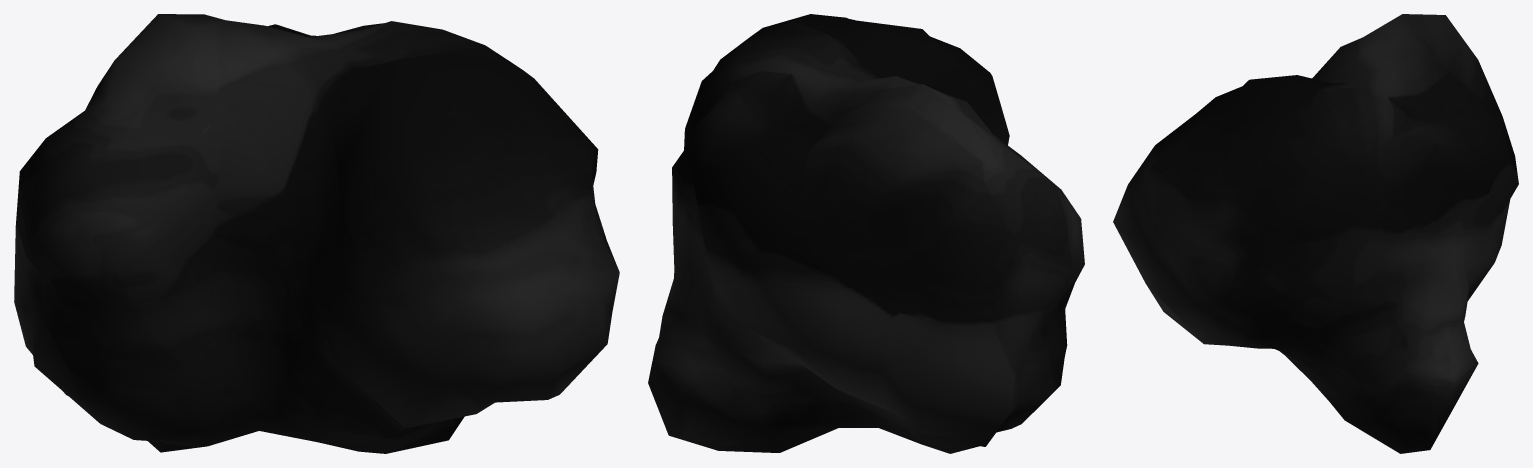
File: 03-Rock.fbx
The picture shows the model from 3 angles, left to right: view 1: azimuth 30°, elevation 25°; view 2: azimuth 150°, elevation 25°; view 3: azimuth 270°, elevation 25°; orthographic projection. The views are drawn at different scales.
Visible parts, largest first — view 1: 03-CoralRock.059; view 2: 03-CoralRock.059; view 3: 03-CoralRock.059.
Boxes of the visible parts, x1,y1,x2,y2 form: 03-CoralRock.059: (14,14,619,453); 03-CoralRock.059: (648,14,1084,453); 03-CoralRock.059: (1113,14,1518,453).
Bounding box in the file's own units: 293 × 272 × 282.
